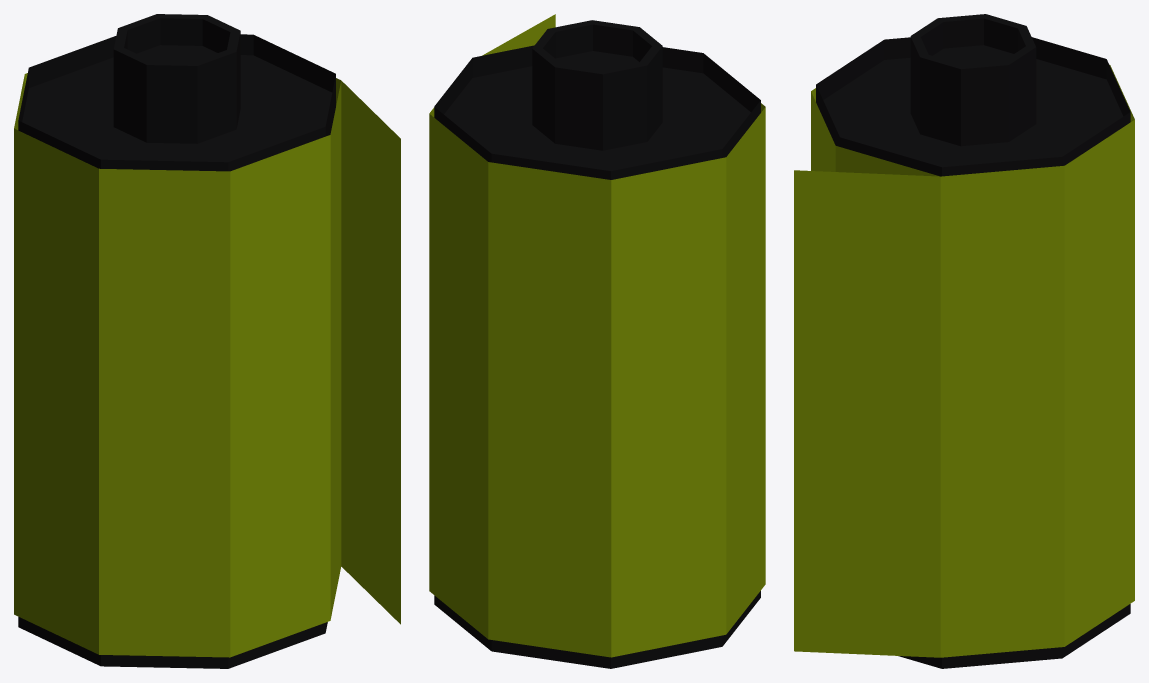
File: Roll.fbx
3 renders of one model, left to right at view 1: azimuth 30°, elevation 25°; view 2: azimuth 150°, elevation 25°; view 3: azimuth 270°, elevation 25°, orthographic.
Visible parts, largest first — view 1: Cylinder.001, Cylinder; view 2: Cylinder.001, Cylinder; view 3: Cylinder.001, Cylinder.
Part boxes in pixels (x1,y1,x2,y2): Cylinder.001: (14, 73, 400, 657); Cylinder: (18, 14, 335, 668); Cylinder.001: (429, 14, 765, 657); Cylinder: (434, 20, 760, 668); Cylinder.001: (794, 65, 1134, 657); Cylinder: (816, 14, 1130, 668).
Bounding box in the file's own units: 51.11 × 93.44 × 51.72.
